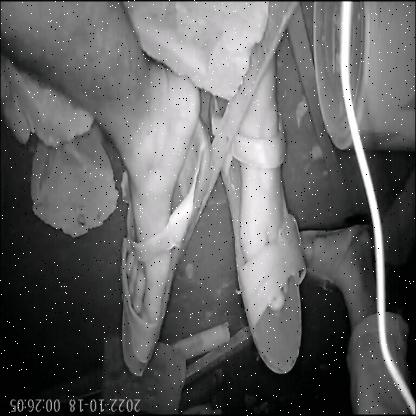leg: (4, 0, 203, 380), (206, 89, 309, 378)
